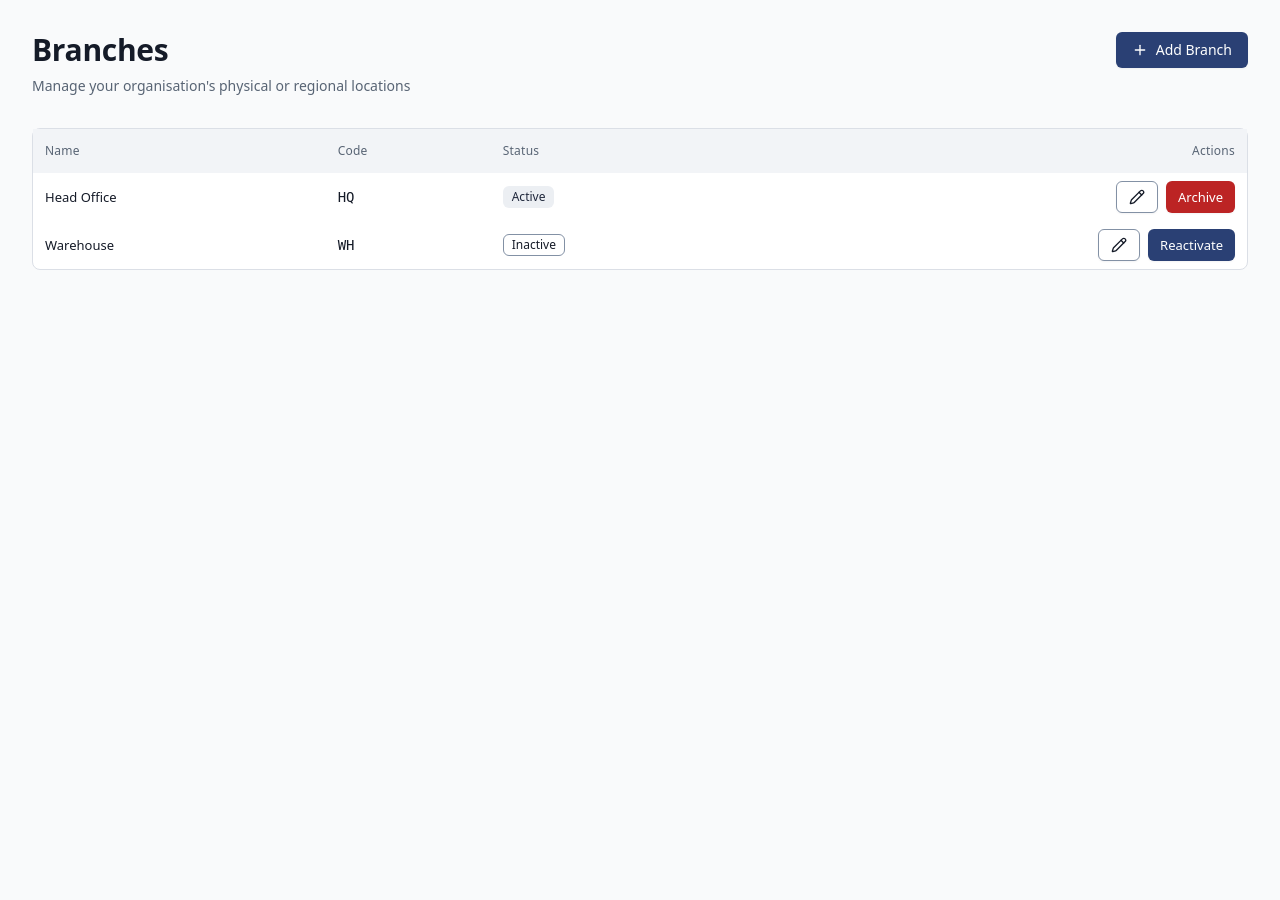
Test: Branches page › archive / reactivate confirmation › opens a confirmation instead of archiving, and Cancel runs nothing
The width and height of the screenshot is (1280, 900).
Click the button with test id "button-toggle-branch-status-1" at coordinates (1200, 197), box 1166,181 -> 1235,213
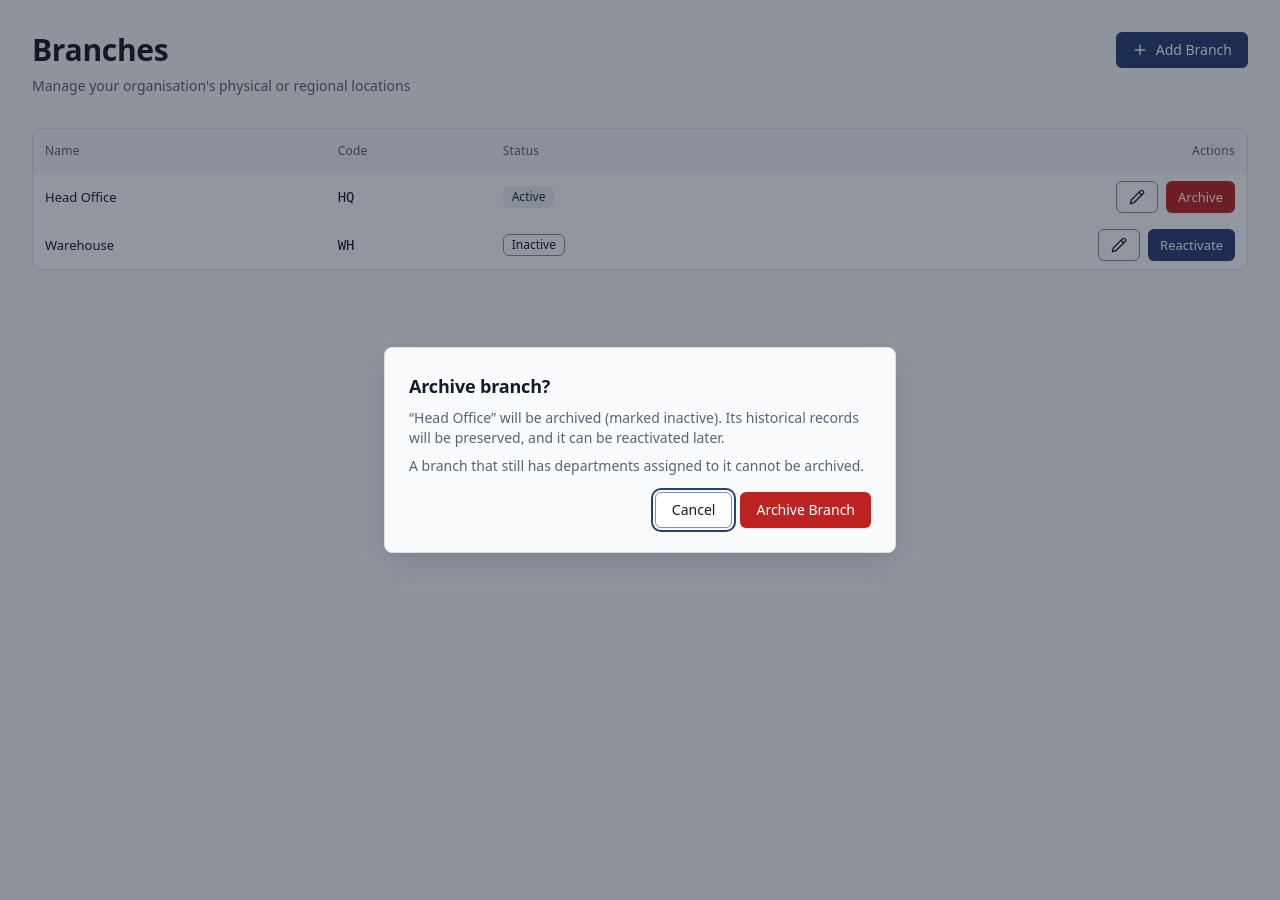
Result: the dialog with test id "dialog-branch-status" shows "Archive branch?" at 409,374 -> 550,398
Result: the dialog with test id "dialog-branch-status" shows "“Head Office” will be archived (marked inactive)" at 384,347 -> 896,553
Click the button "Cancel" at coordinates (694, 510), box 655,492 -> 732,528
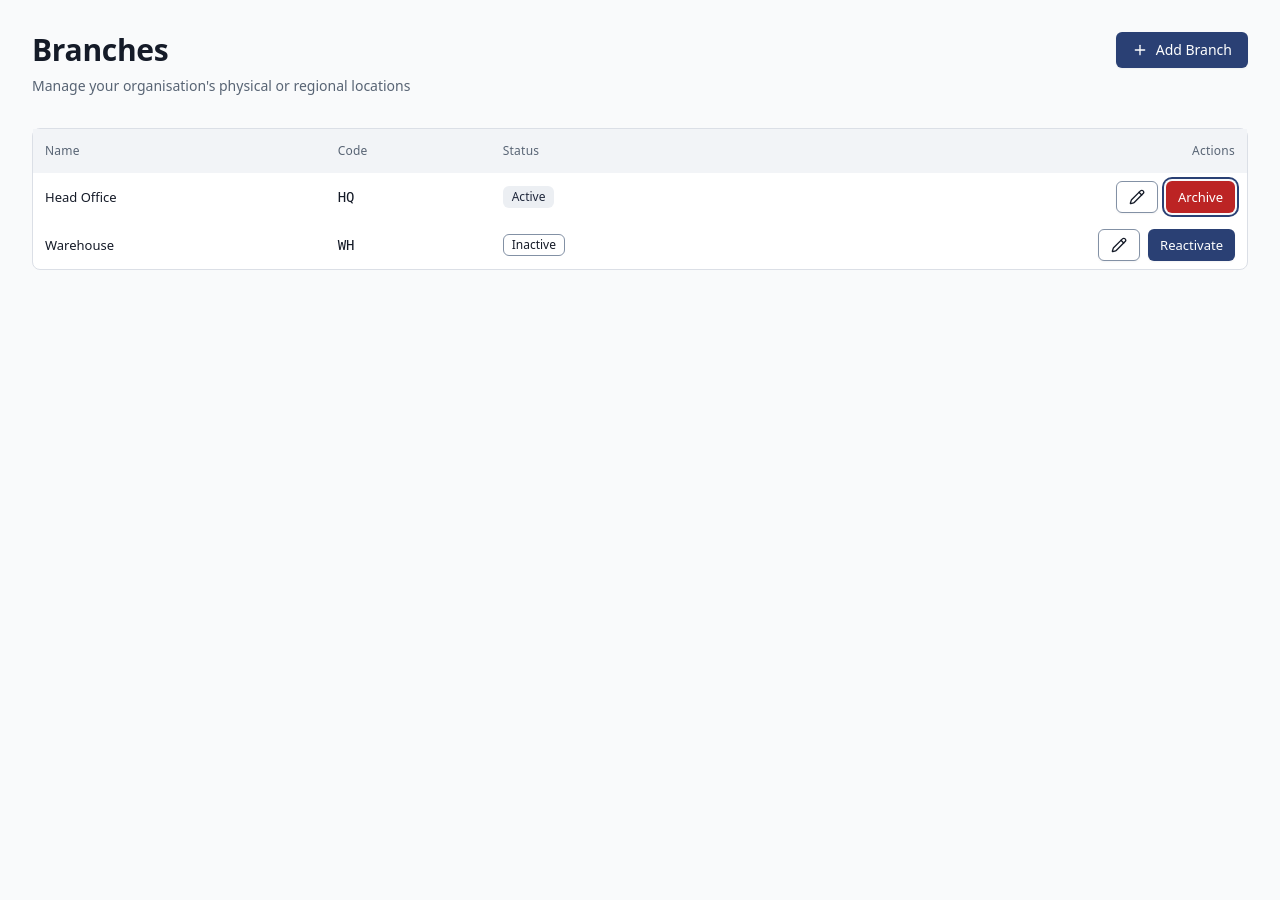
Result: the dialog with test id "dialog-branch-status" is gone
